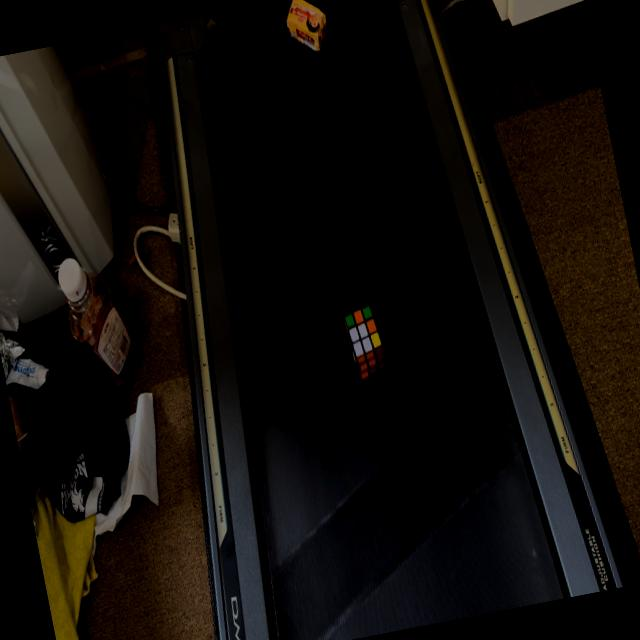Trash: (342, 305, 389, 380), (281, 0, 334, 60)
